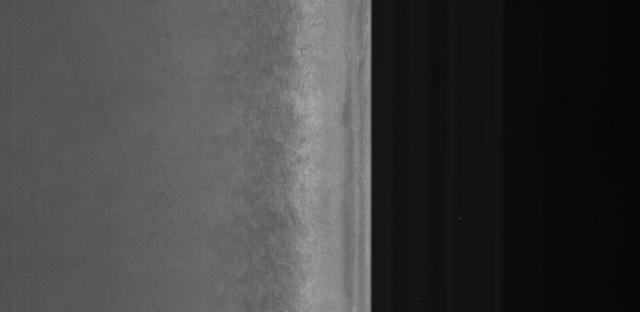silk_spot: (212, 90, 288, 287)
